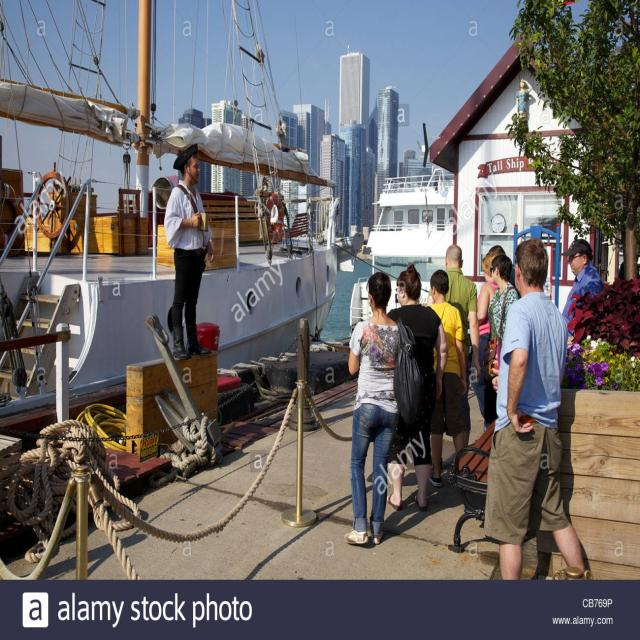body: (485, 233, 589, 580), (342, 270, 401, 548), (385, 260, 449, 513), (160, 142, 218, 360), (425, 244, 481, 466), (422, 266, 472, 488), (476, 249, 507, 433), (487, 253, 519, 424), (559, 236, 605, 348), (488, 244, 506, 254)
